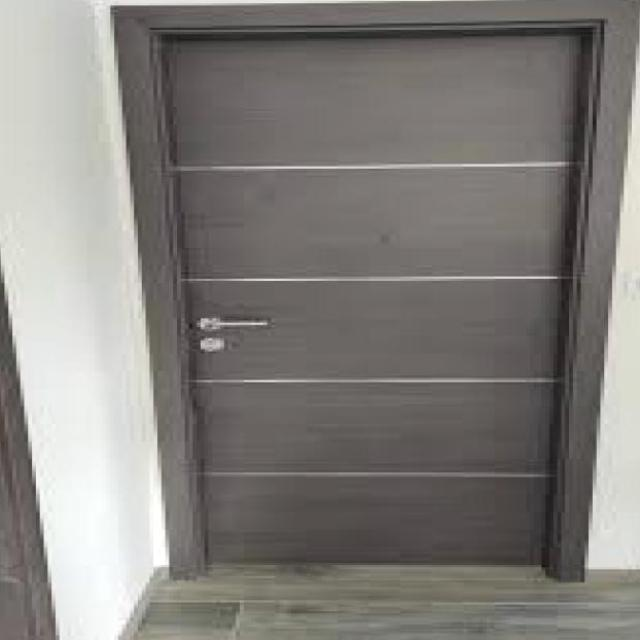door: (145, 20, 597, 579)
